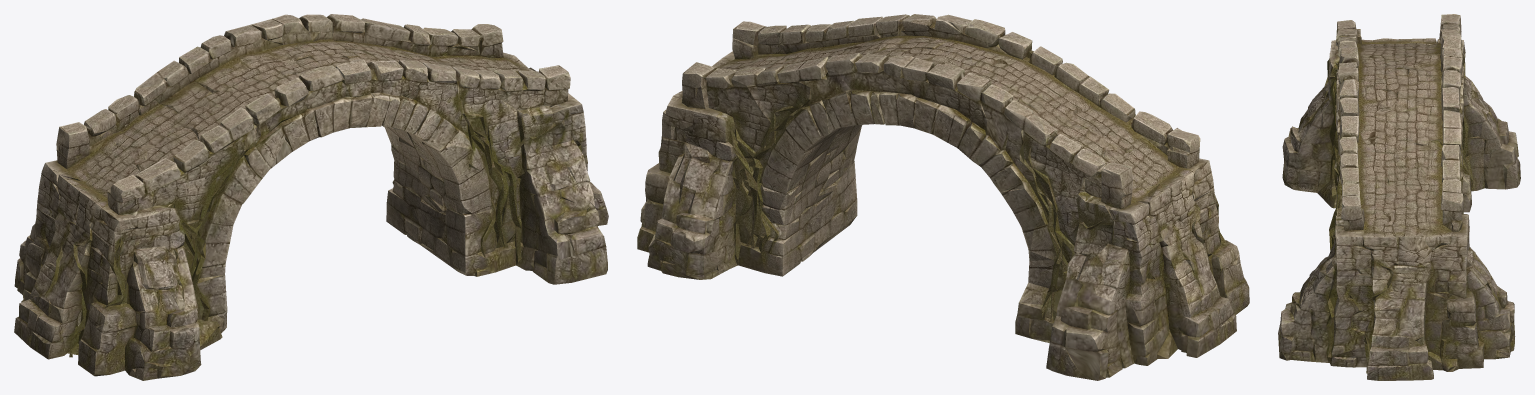
Rendered from poi_bridge.glb.
3 renders of one model, left to right at view 1: azimuth 30°, elevation 25°; view 2: azimuth 150°, elevation 25°; view 3: azimuth 270°, elevation 25°, orthographic. The views are drawn at different scales.
Visible parts, largest first — view 1: poi_bridge; view 2: poi_bridge; view 3: poi_bridge.
Boxes of the visible parts, <box> form: poi_bridge: <box>14,14,608,380</box>; poi_bridge: <box>637,14,1249,380</box>; poi_bridge: <box>1278,14,1520,380</box>.
Size of the model in its own units: 19.99 by 8.11 by 8.63.
1 material, 1 textured.
